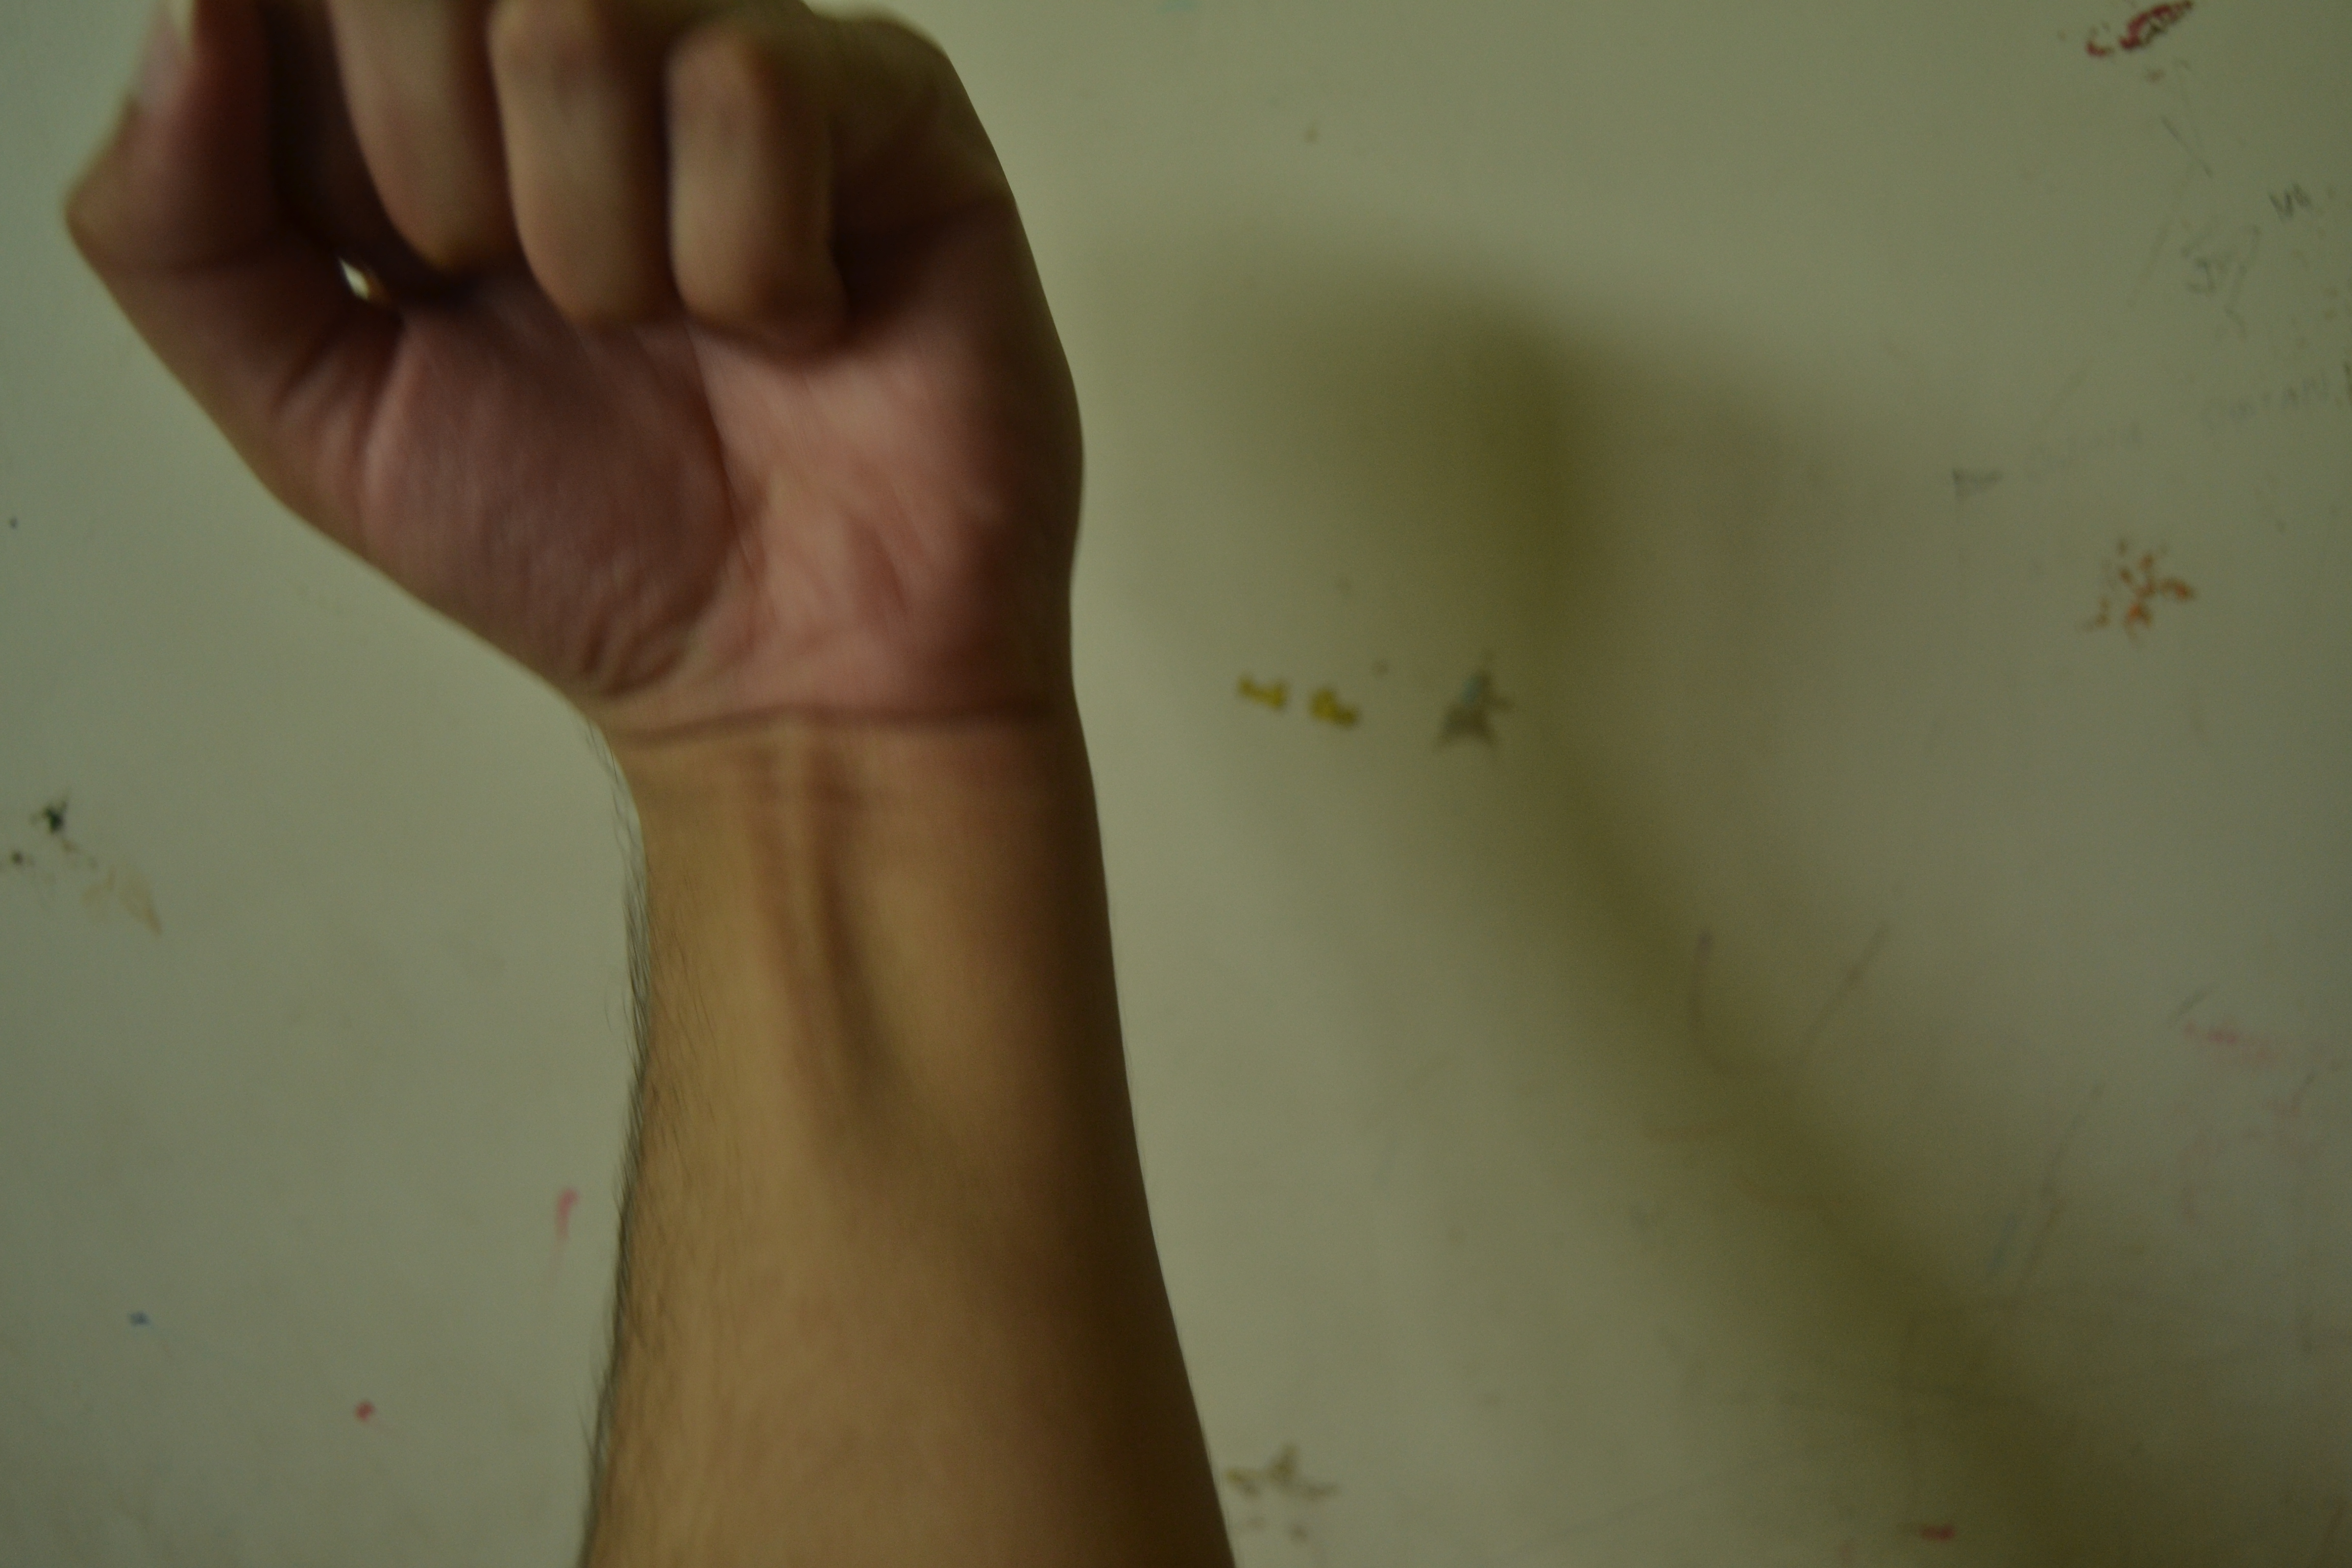click: (79, 0, 1241, 863)
